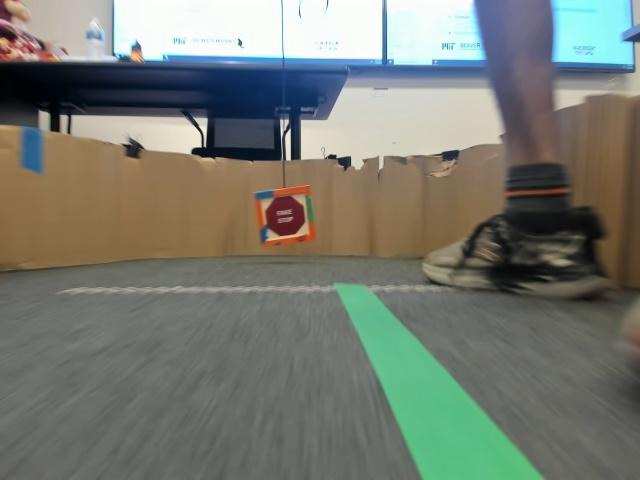Fake Stop: (262, 199, 302, 238)
